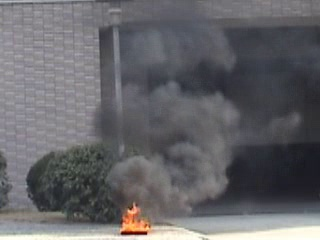smoke: (99, 28, 236, 209)
